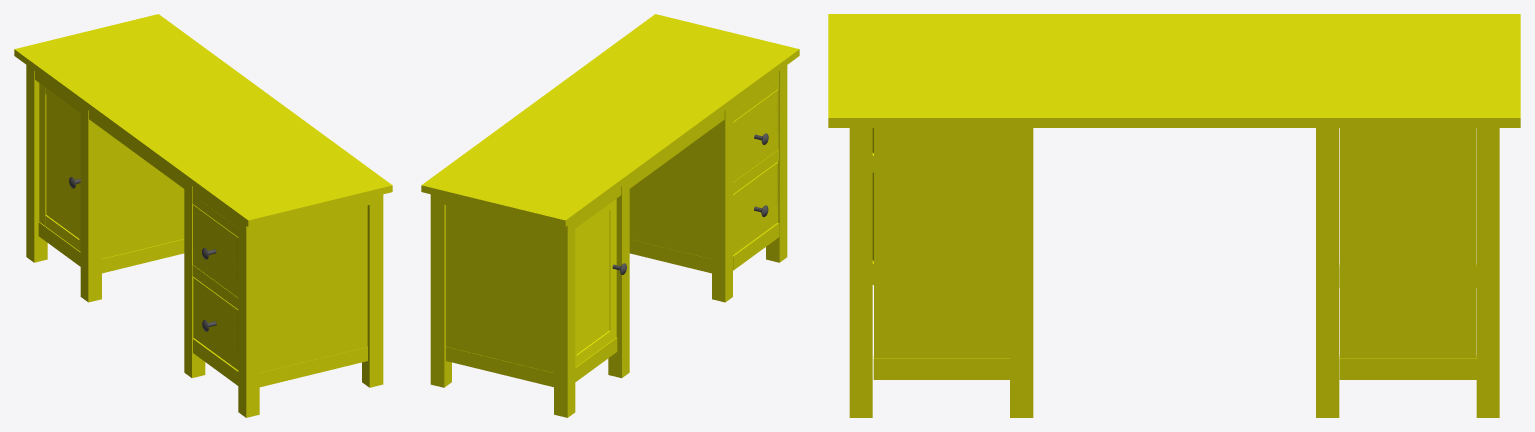
3 renders of one model, left to right at view 1: azimuth 30°, elevation 25°; view 2: azimuth 150°, elevation 25°; view 3: azimuth 270°, elevation 25°, orthographic. The views are drawn at different scales.
Visible parts, largest first — view 1: Table _Table Morilka_0, Table Left Door, Table Left Door.002, Table Left Door.003; view 2: Table _Table Morilka_0, Table Left Door, Table Left Door.002, Table Left Door.003; view 3: Table _Table Morilka_0.
Part boxes in pixels (box(x1,y1,x2,y2)): Table _Table Morilka_0: box(14, 14, 392, 417); Table Left Door: box(39, 83, 80, 251); Table Left Door.002: box(193, 277, 238, 369); Table Left Door.003: box(193, 204, 238, 297); Table _Table Morilka_0: box(421, 14, 799, 417); Table Left Door: box(575, 199, 616, 367); Table Left Door.002: box(733, 162, 778, 254); Table Left Door.003: box(733, 89, 778, 182); Table _Table Morilka_0: box(828, 14, 1520, 417).
Bounding box in the file's own units: 57.76 × 74.5 × 155.
4 materials, 3 textured.
